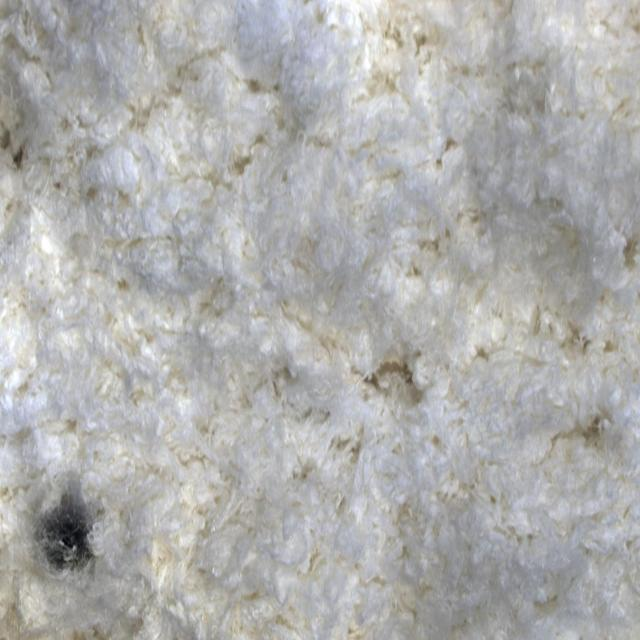dust: (14, 442, 135, 634)
